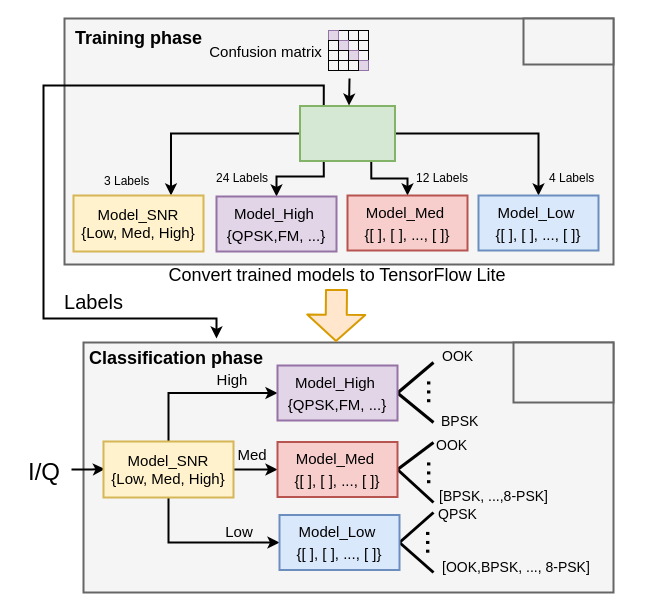
The diagram is 656 pixels wide and 610 high, and some of its shapes have lost their labels. The centre of each missing label's shape, as x and y in pixels:
"Edge device" belongs at (x=563, y=372).
"GPU" belongs at (x=568, y=41).
"Re-labelling Algorithm" belongs at (x=347, y=133).
